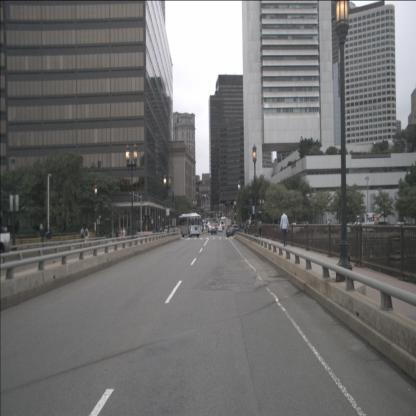human-pedestrian-adult: (280, 210, 289, 247), (40, 225, 46, 250), (46, 228, 52, 249), (80, 226, 85, 246), (258, 219, 262, 240), (85, 226, 89, 245), (122, 227, 126, 241), (116, 228, 119, 242), (120, 228, 123, 242), (244, 223, 247, 236)
vehicle-bus-rigid: (179, 213, 201, 238)
vehicle-car: (353, 213, 381, 234), (226, 225, 234, 238), (232, 224, 243, 233), (211, 226, 217, 235), (218, 225, 223, 233), (208, 226, 213, 233), (202, 224, 206, 231)
vehicle-truck: (220, 220, 225, 229)
